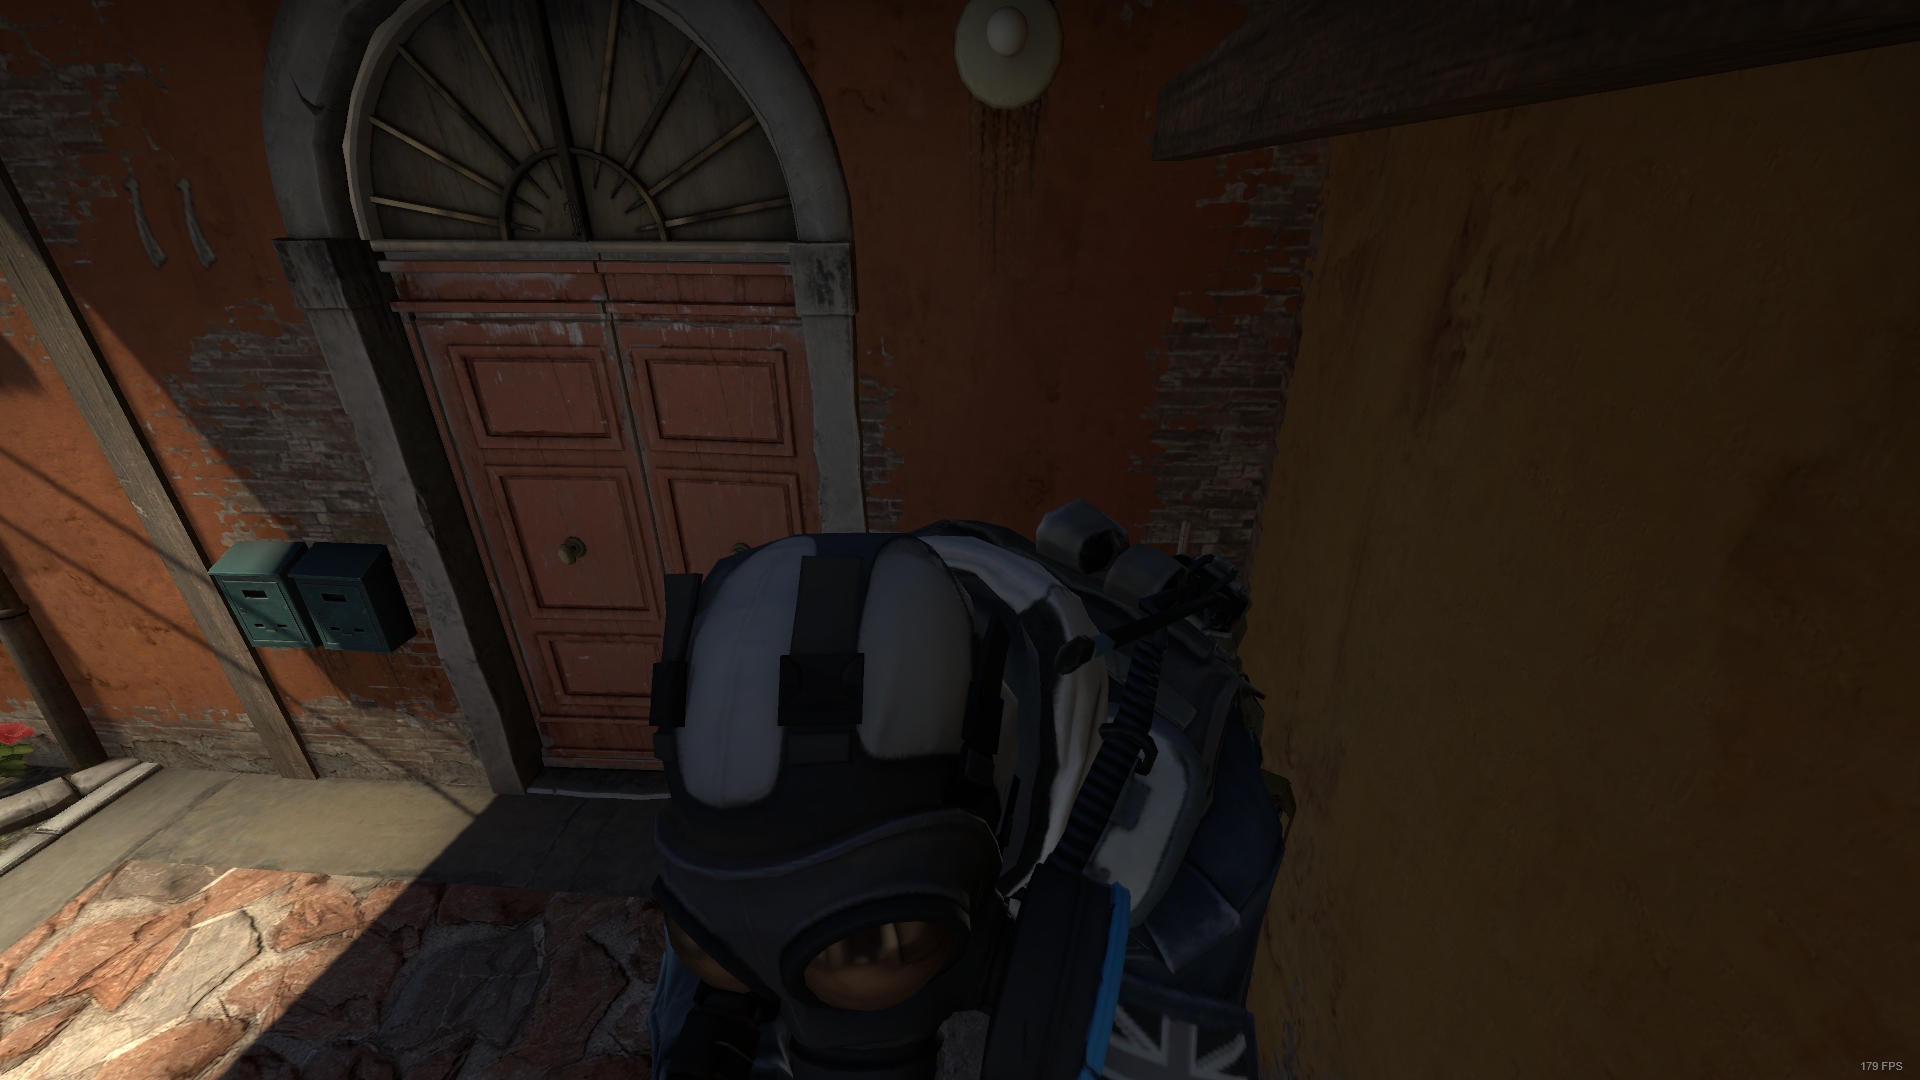ct: (650, 501, 1288, 1080)
